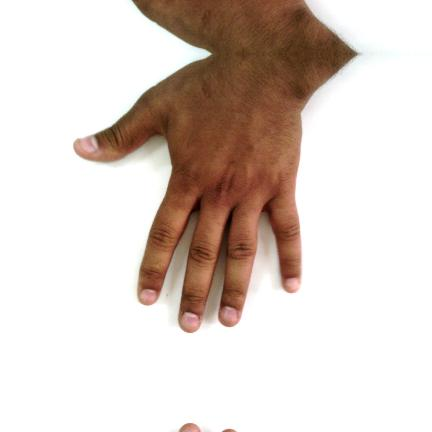Nail: (73, 135, 98, 156), (219, 306, 240, 327), (180, 312, 201, 333), (139, 289, 158, 305), (284, 278, 301, 293), (180, 423, 200, 432), (222, 429, 237, 432)
